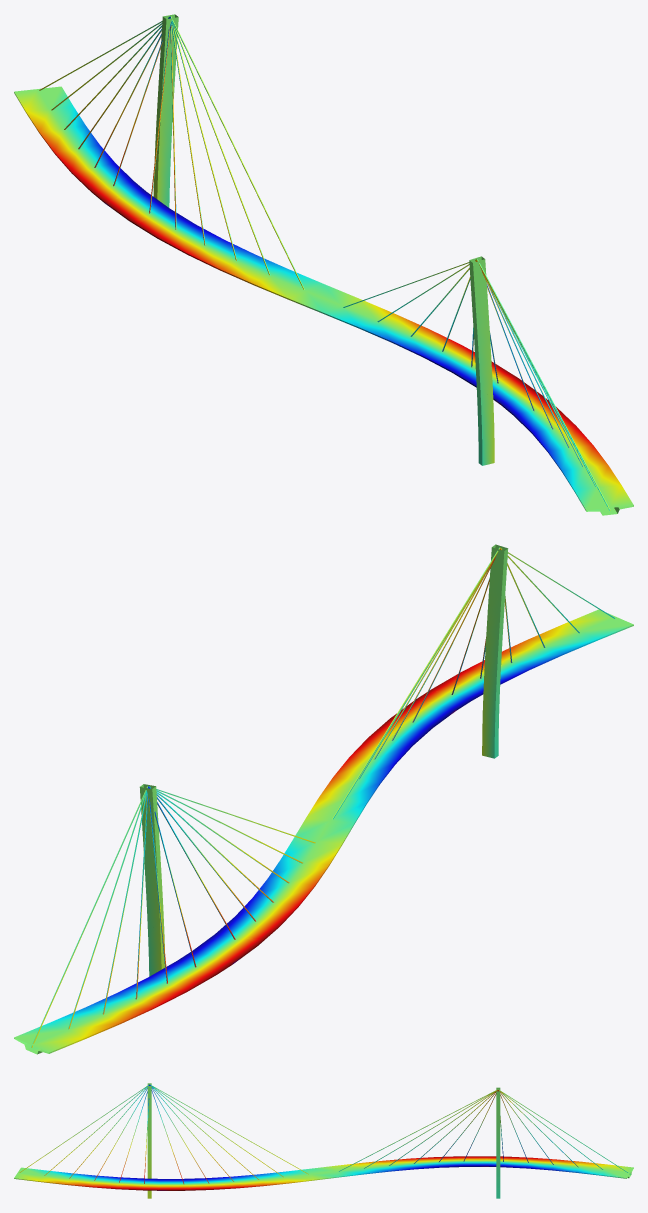
The model's file is Mode4.glb.
3 renders of one model, top to bottom at view 1: azimuth 30°, elevation 25°; view 2: azimuth 150°, elevation 25°; view 3: azimuth 270°, elevation 25°, orthographic. The views are drawn at different scales.
Parts seen in each view (by area): view 1: beam1_hull_lc101_mode4_ampFactor100; view 2: beam1_hull_lc101_mode4_ampFactor100; view 3: beam1_hull_lc101_mode4_ampFactor100.
Part boxes in pixels (box(x1,y1,x2,y2)): beam1_hull_lc101_mode4_ampFactor100: box(14, 14, 633, 515); beam1_hull_lc101_mode4_ampFactor100: box(14, 544, 633, 1054); beam1_hull_lc101_mode4_ampFactor100: box(14, 1083, 633, 1198).
Size of the model in its own units: 15.89 by 24.05 by 122.
Materials: 1 (1 with a texture image).
